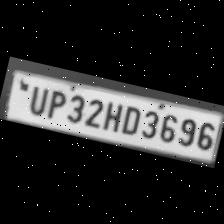2: (81, 93, 107, 129)
3: (61, 88, 88, 124), (137, 104, 162, 140)
6: (192, 116, 219, 152), (156, 108, 182, 144)
9: (174, 112, 200, 149)
D: (118, 100, 144, 137)
H: (100, 96, 125, 132)
P: (42, 84, 69, 122)
U: (23, 80, 52, 116)
